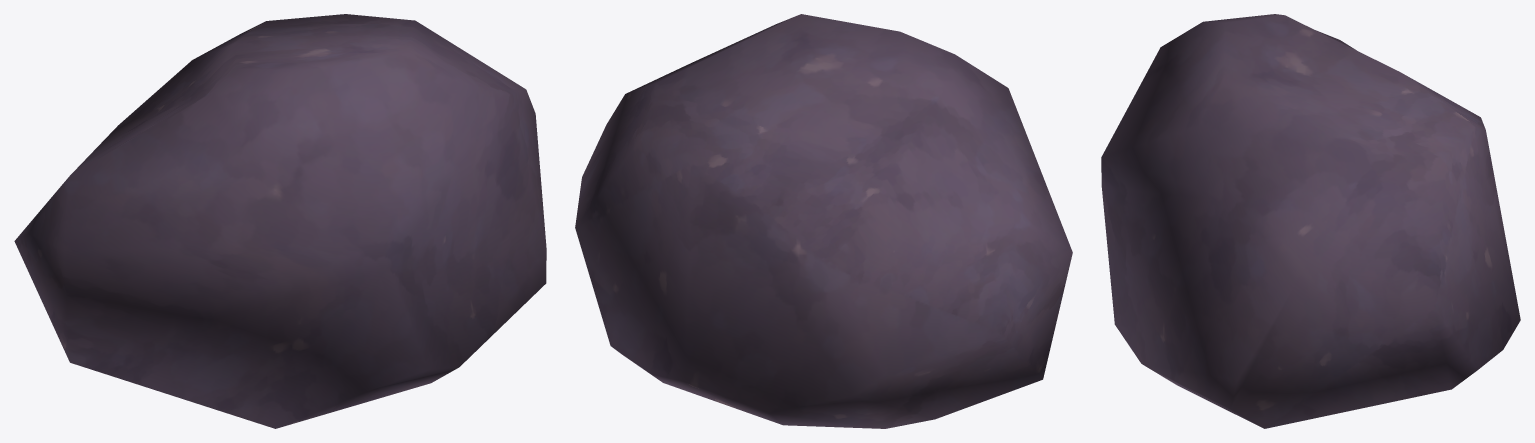
The model's file is Rock04.fbx.
3 views of the same model, side by side, from view 1: azimuth 30°, elevation 25°; view 2: azimuth 150°, elevation 25°; view 3: azimuth 270°, elevation 25° (orthographic). The views are drawn at different scales.
Parts seen in each view (by area): view 1: Rock04_LP; view 2: Rock04_LP; view 3: Rock04_LP.
Part boxes in pixels (box(x1,y1,x2,y2)): Rock04_LP: box(14, 14, 546, 428); Rock04_LP: box(575, 14, 1072, 428); Rock04_LP: box(1101, 14, 1520, 428).
Size of the model in its own units: 2379 by 1598 by 1834.
